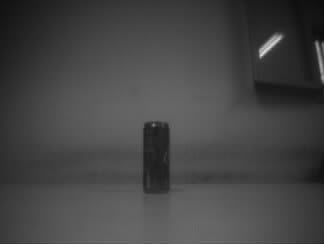Tin can: (142, 121, 170, 194)
